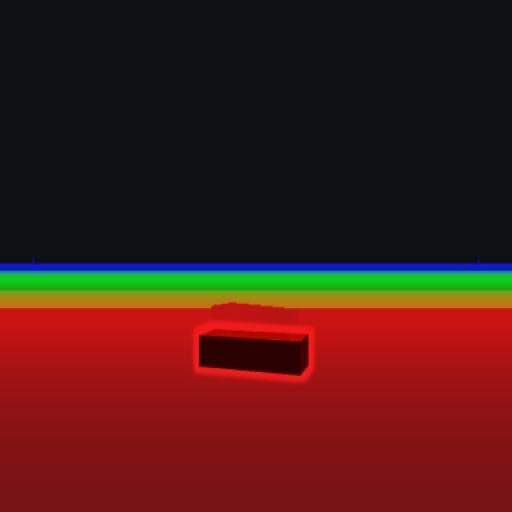debris_container: (200, 322, 310, 376)
